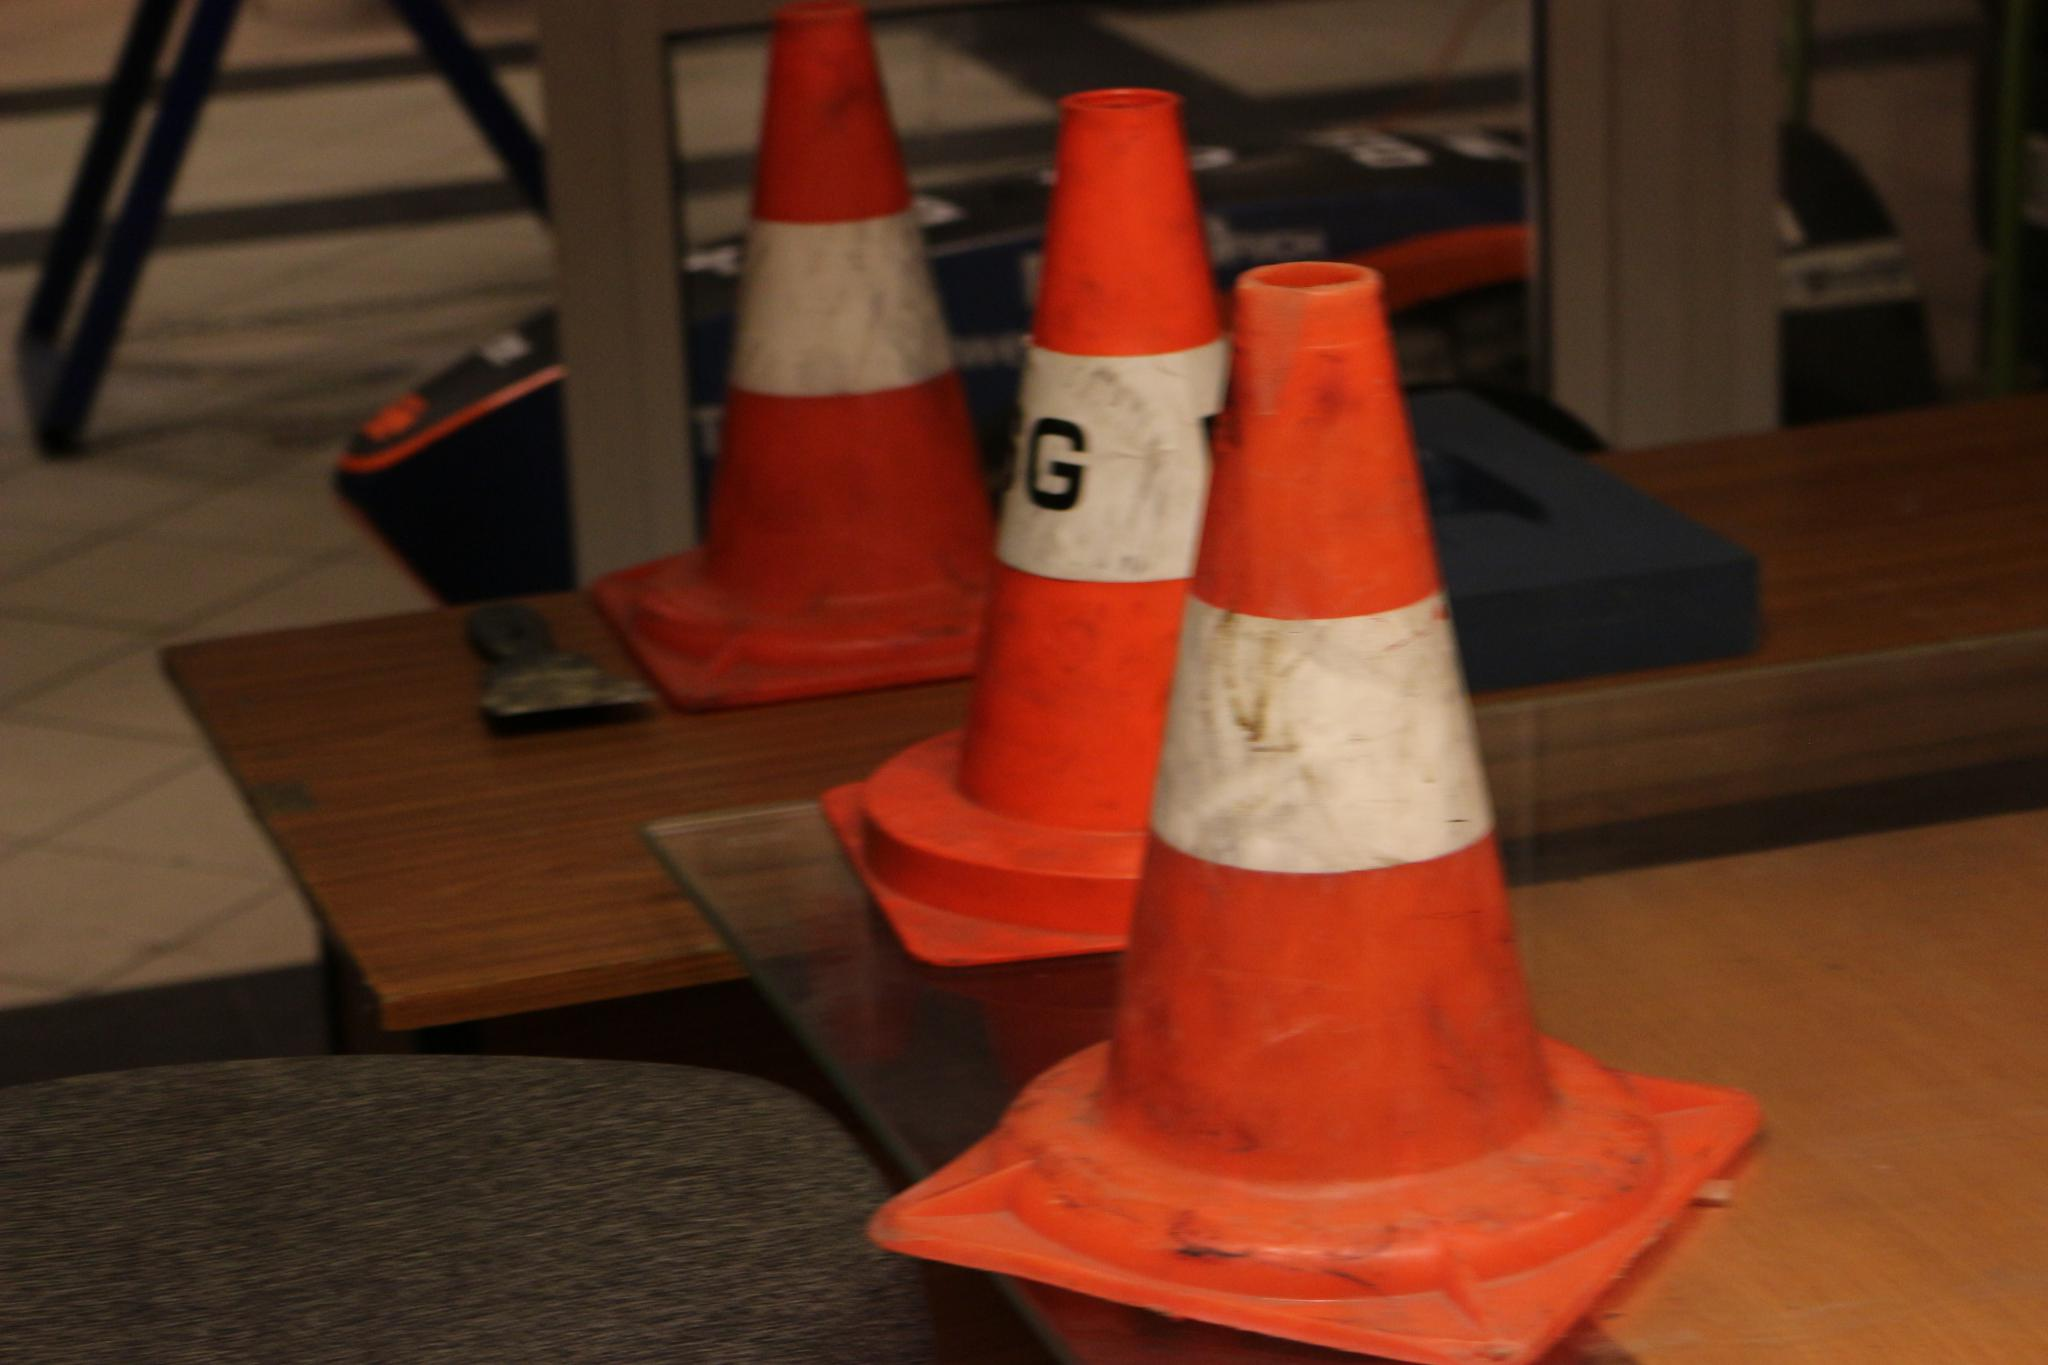Orange_Cone: (955, 229, 1658, 1295), (847, 73, 1421, 943), (617, 3, 1022, 675)
